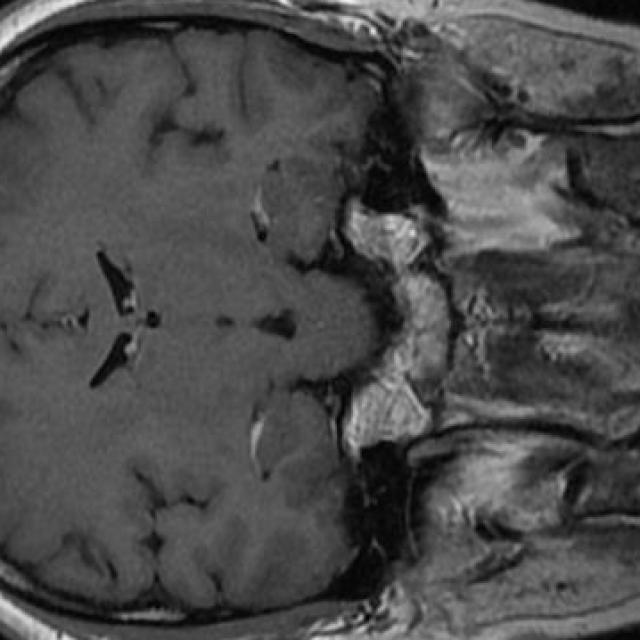pituitary: (344, 210, 451, 449)
